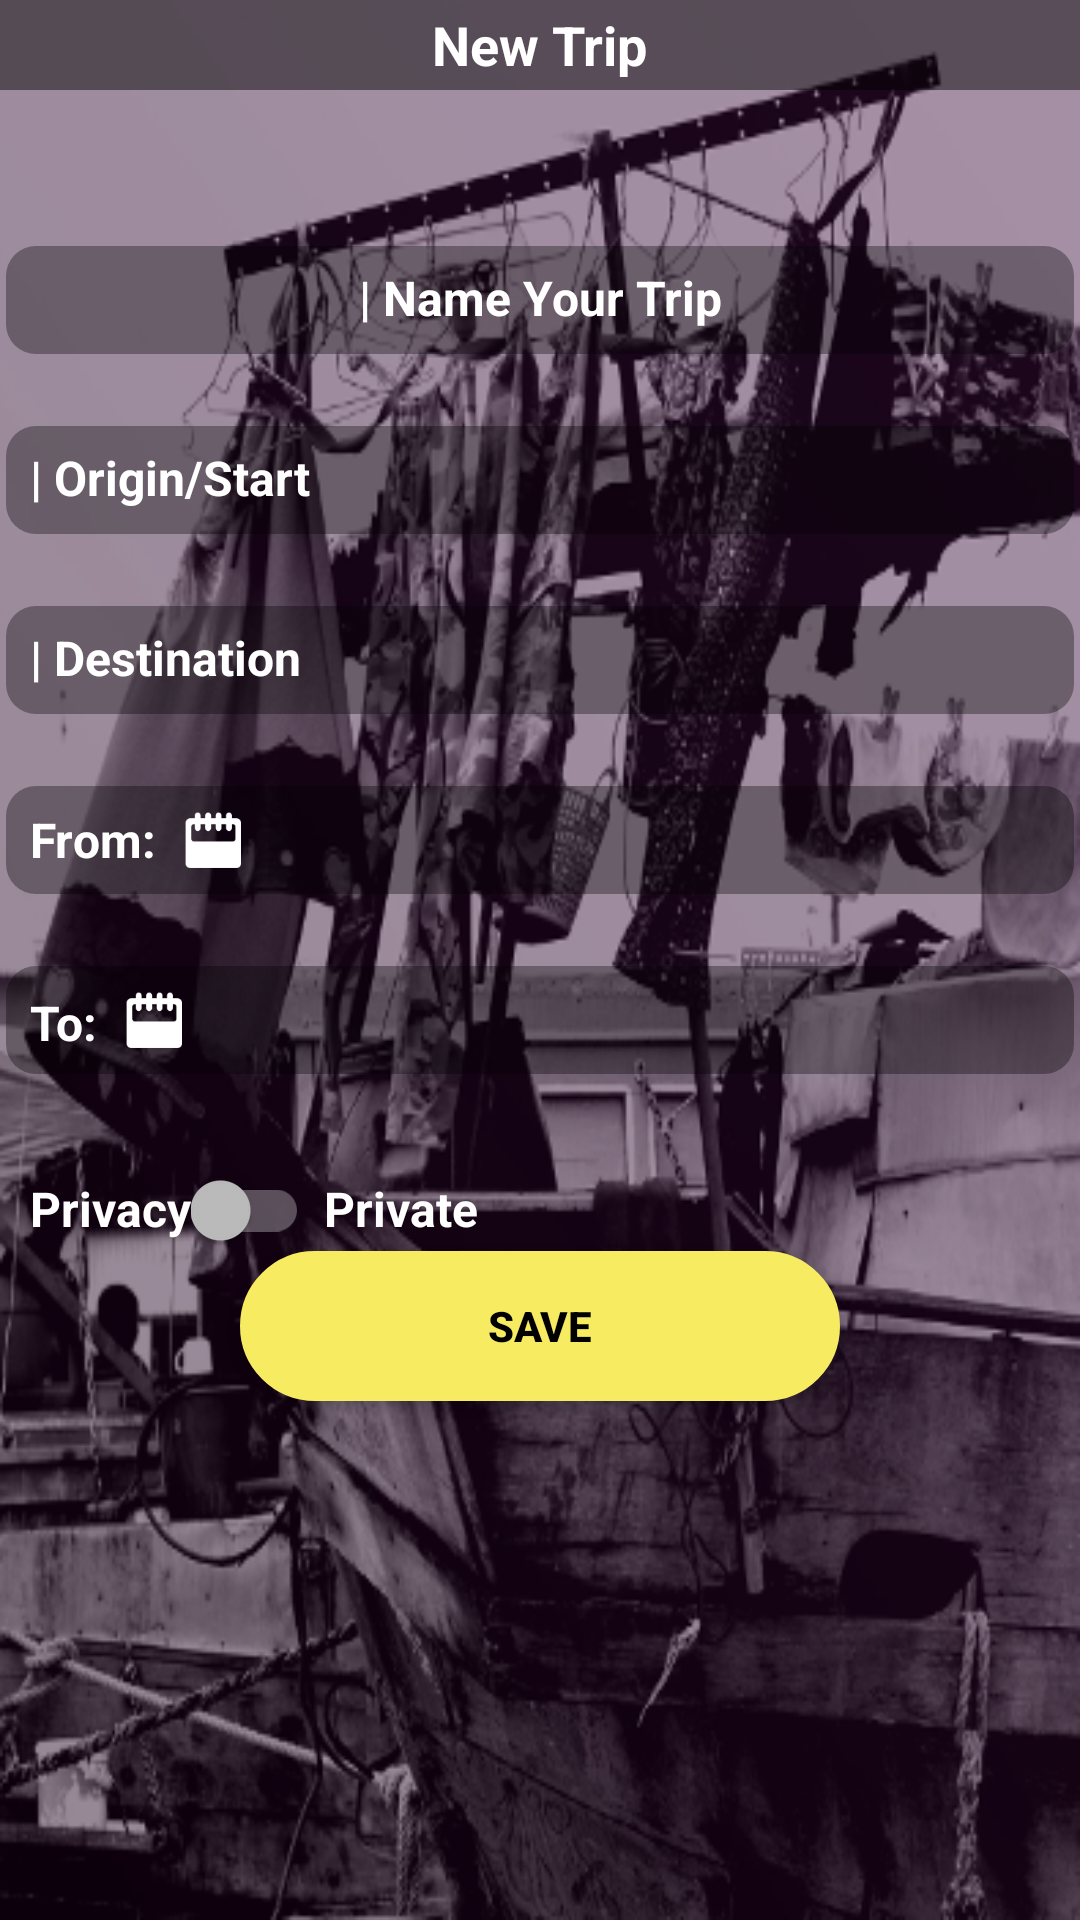

Where to tap for icons on this 1080×1920 app screen, as point (x, y):
calendar: point (213, 840), point (145, 1028)
